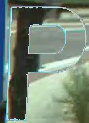Parking: (7, 4, 83, 122)
